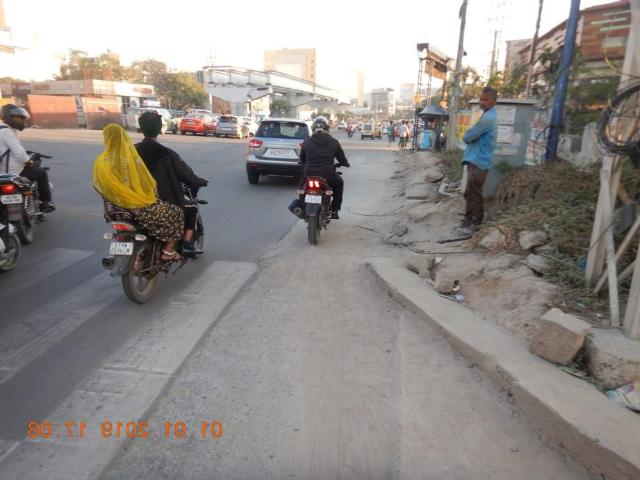helm: (1, 105, 31, 132), (312, 117, 330, 136)
motor: (103, 203, 212, 306), (1, 154, 53, 245), (295, 178, 333, 247)
non-helm: (140, 112, 163, 139), (104, 126, 126, 149)
